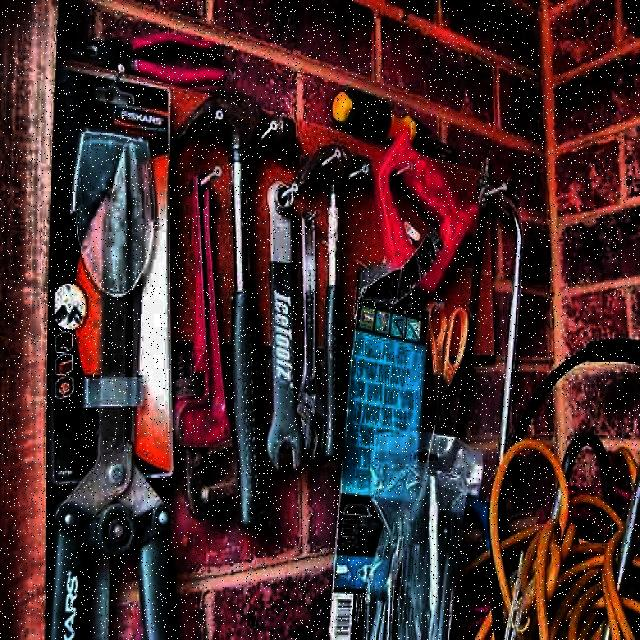hammer: (176, 90, 295, 526), (298, 143, 372, 457)
